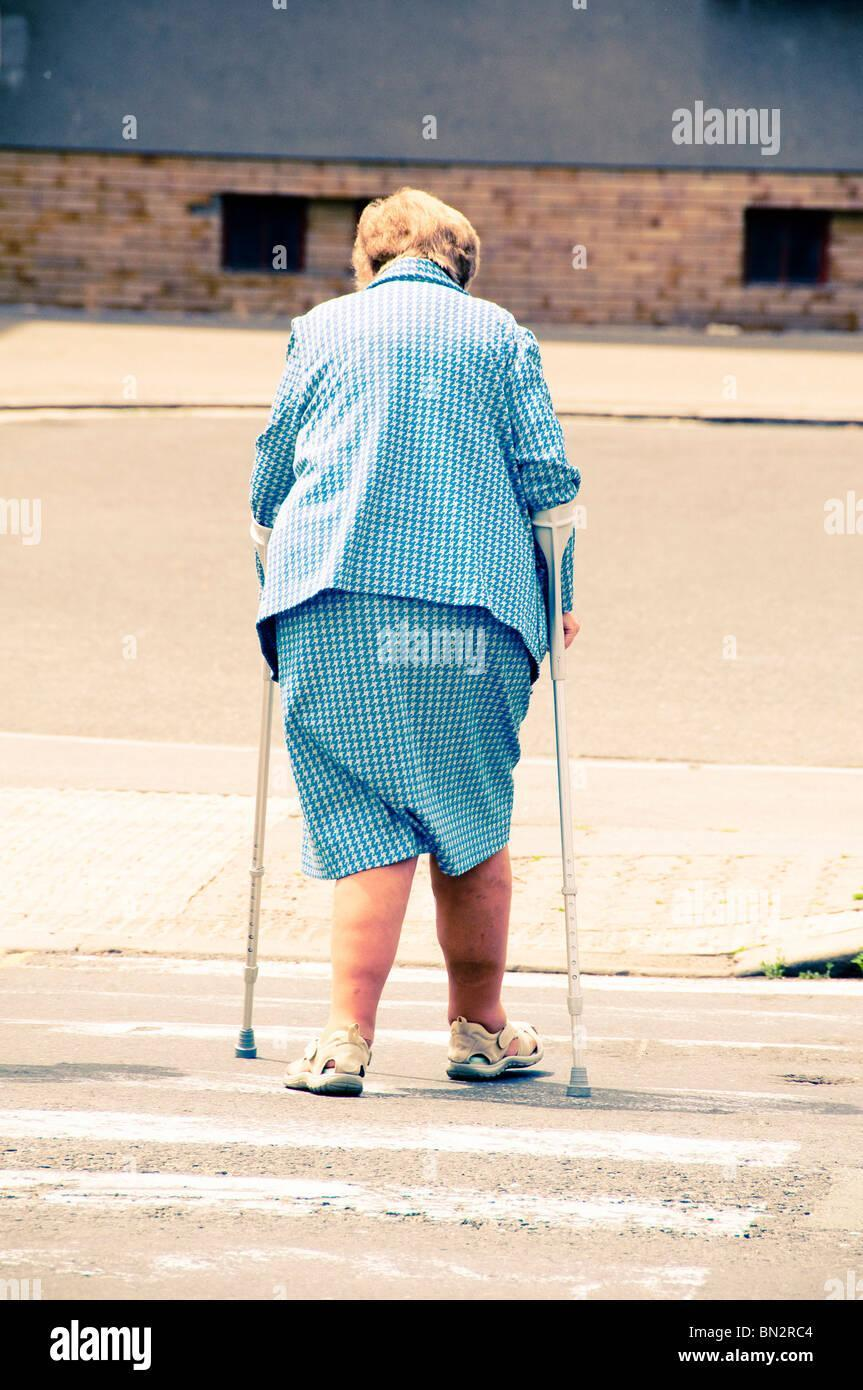crutches: (236, 192, 594, 1104)
